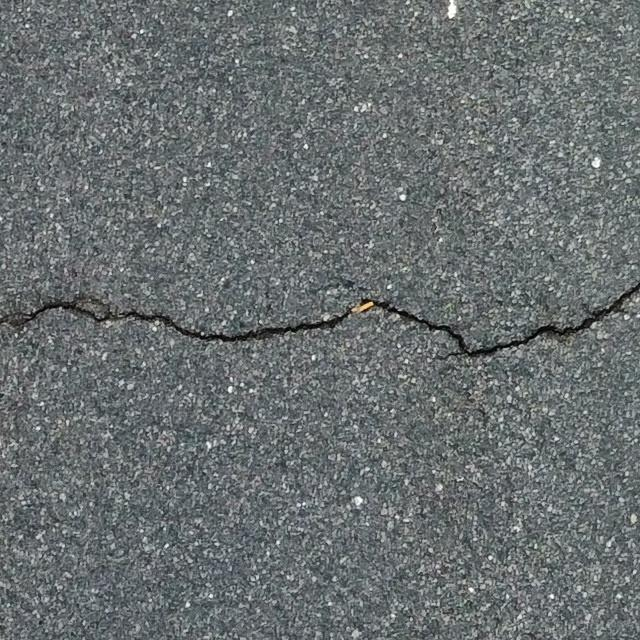TransverseCrack: (1, 283, 640, 359)
